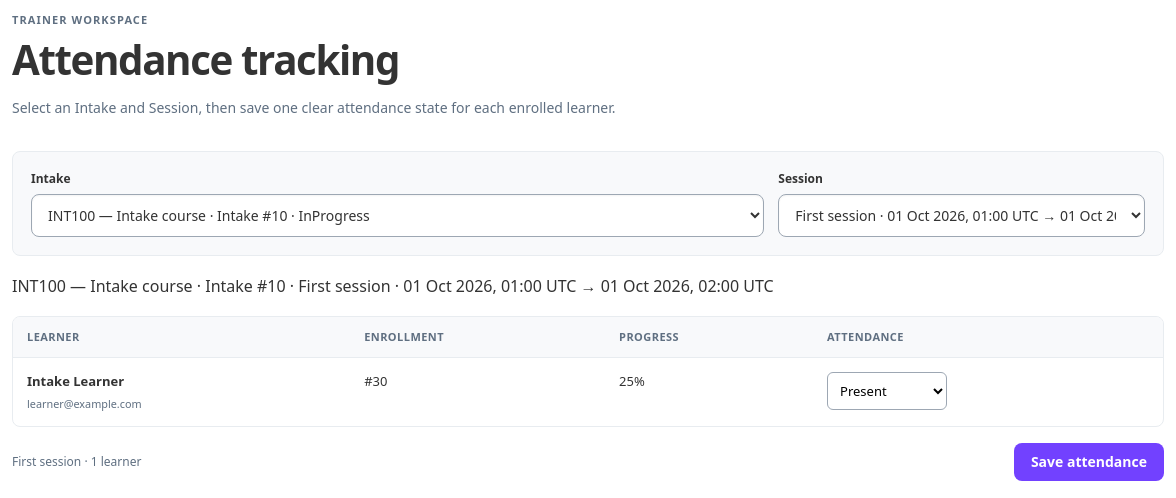
Test: shows the attendance already recorded for the selected Session
Expected: the text "Intake Learner" is shown, [27,372,124,390]
Select "Second session · 02 Oct 2026, 01:00 UTC → 02 Oct 2026, 02:00 UTC" in the dropdown labelled "Session" at (962, 215), box [778,194,1145,237]
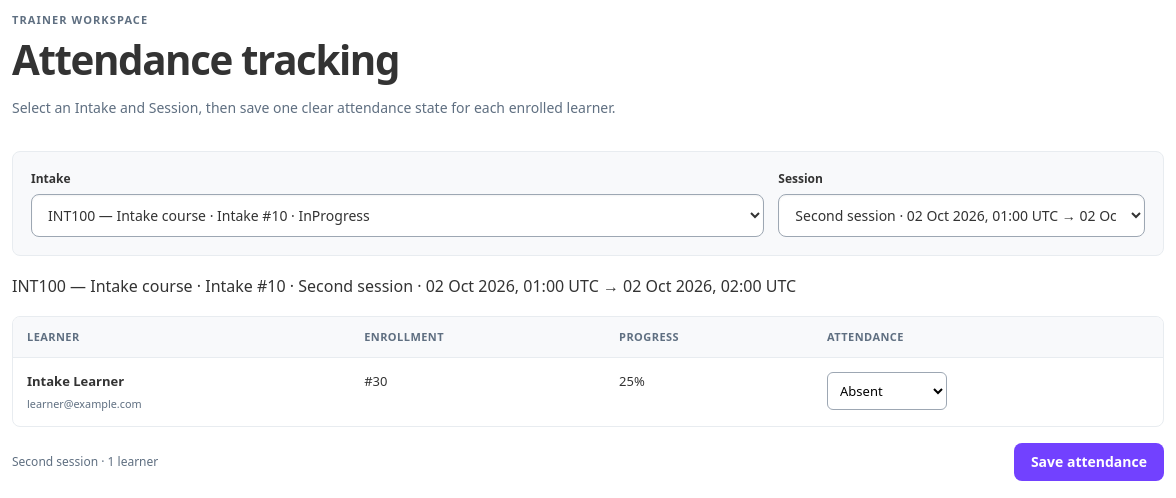
Expected: the dropdown named "Attendance for Intake Learner" shows "Absent", [827,372,947,410]
